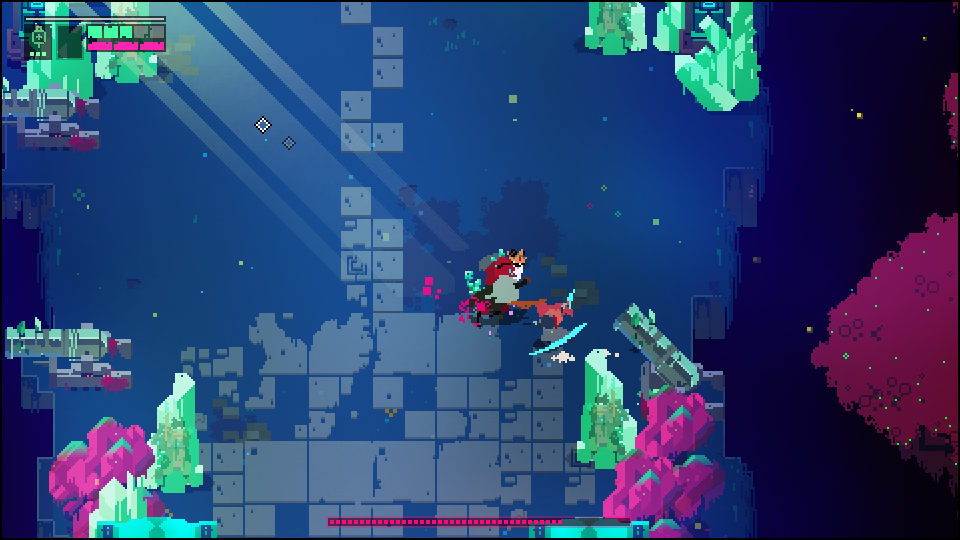hanged_man: (468, 249, 531, 322)
player: (530, 300, 589, 353)
